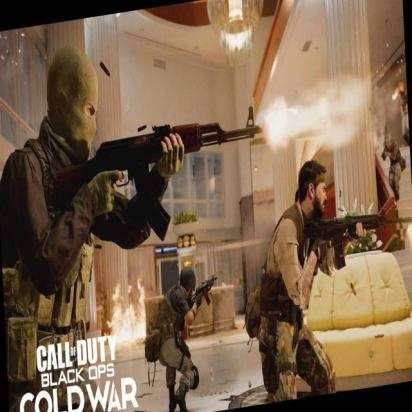Gun: (50, 107, 266, 242), (302, 209, 411, 280)
